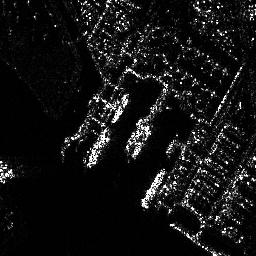ship: (140, 168, 166, 209), (85, 130, 113, 167), (131, 124, 152, 159), (111, 93, 129, 124)
